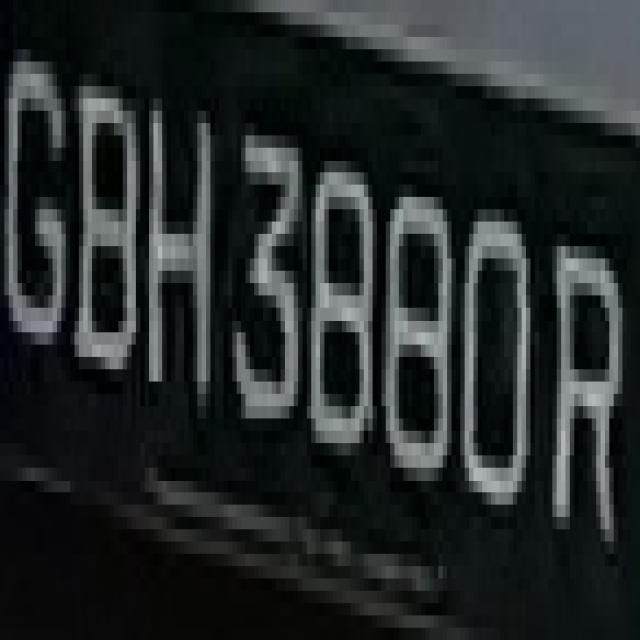0: (456, 148, 535, 566)
3: (228, 87, 298, 456)
8: (382, 135, 461, 517), (307, 135, 381, 480)
B: (74, 49, 140, 406)
G: (0, 24, 70, 382)
H: (136, 86, 228, 443)
R: (544, 222, 631, 566)
